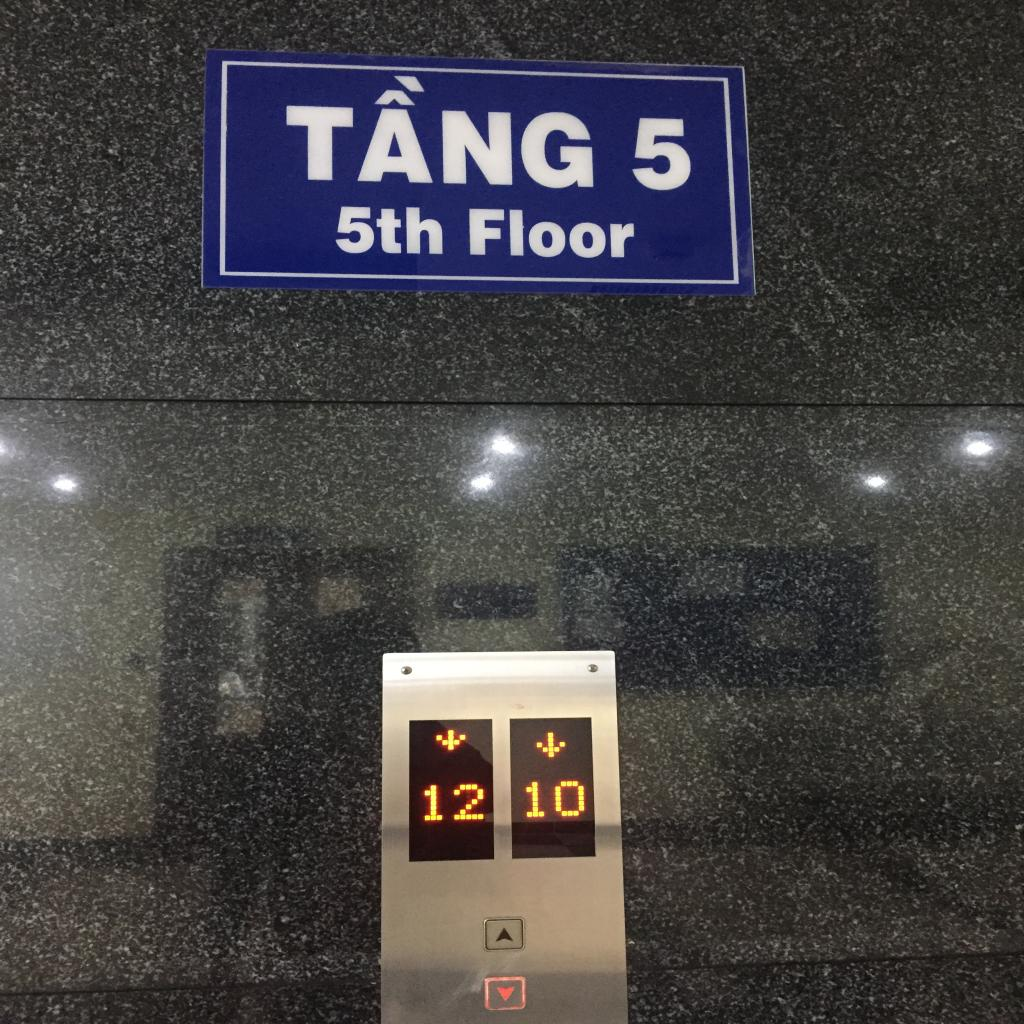text: (289, 70, 598, 192), (464, 209, 644, 261), (329, 205, 445, 258), (627, 112, 692, 194), (417, 780, 489, 822)
